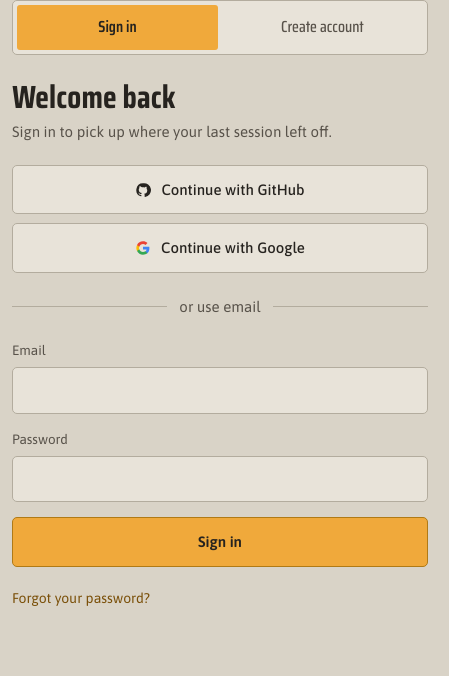
it: submitting › falls back to a readable message when the error has none
Type "reader@example.com" into the field labelled "Email". click: (220, 390)
box: left=12, top=367, right=428, bottom=414
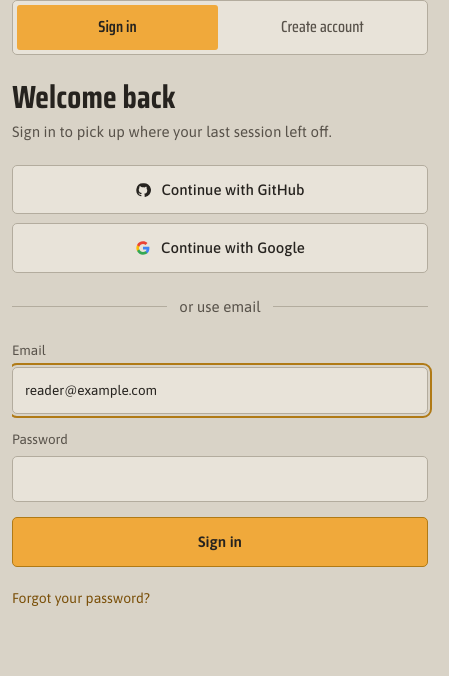
Type "wrong one here" into the password field labelled "Password". click: (220, 479)
box: left=12, top=456, right=428, bottom=502
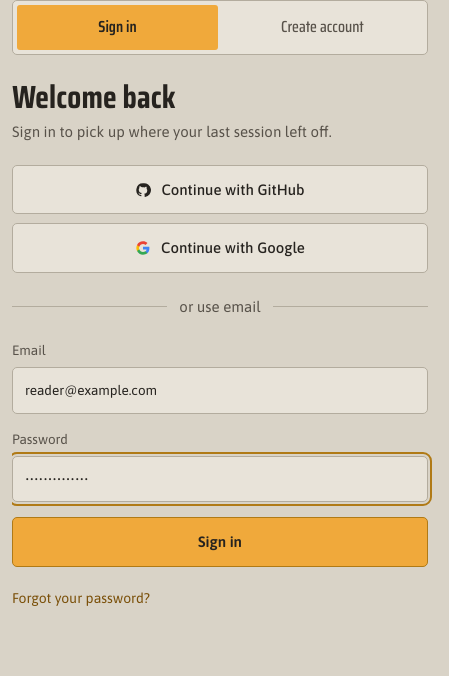
Click the button "Sign in". click: (220, 542)
box: left=12, top=517, right=428, bottom=567
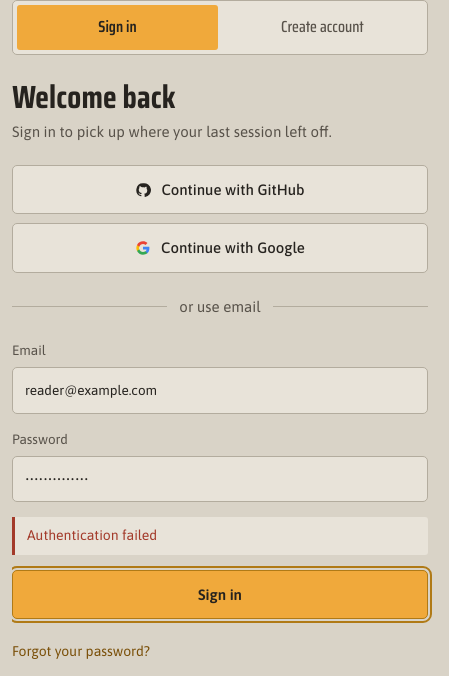
Result: the text "Authentication failed" is shown at left=12, top=517, right=428, bottom=555
